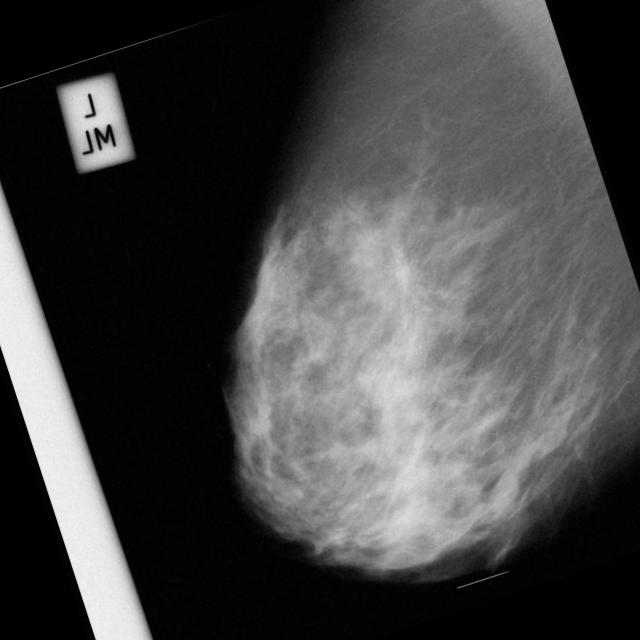SPIC: (369, 232, 446, 310)
